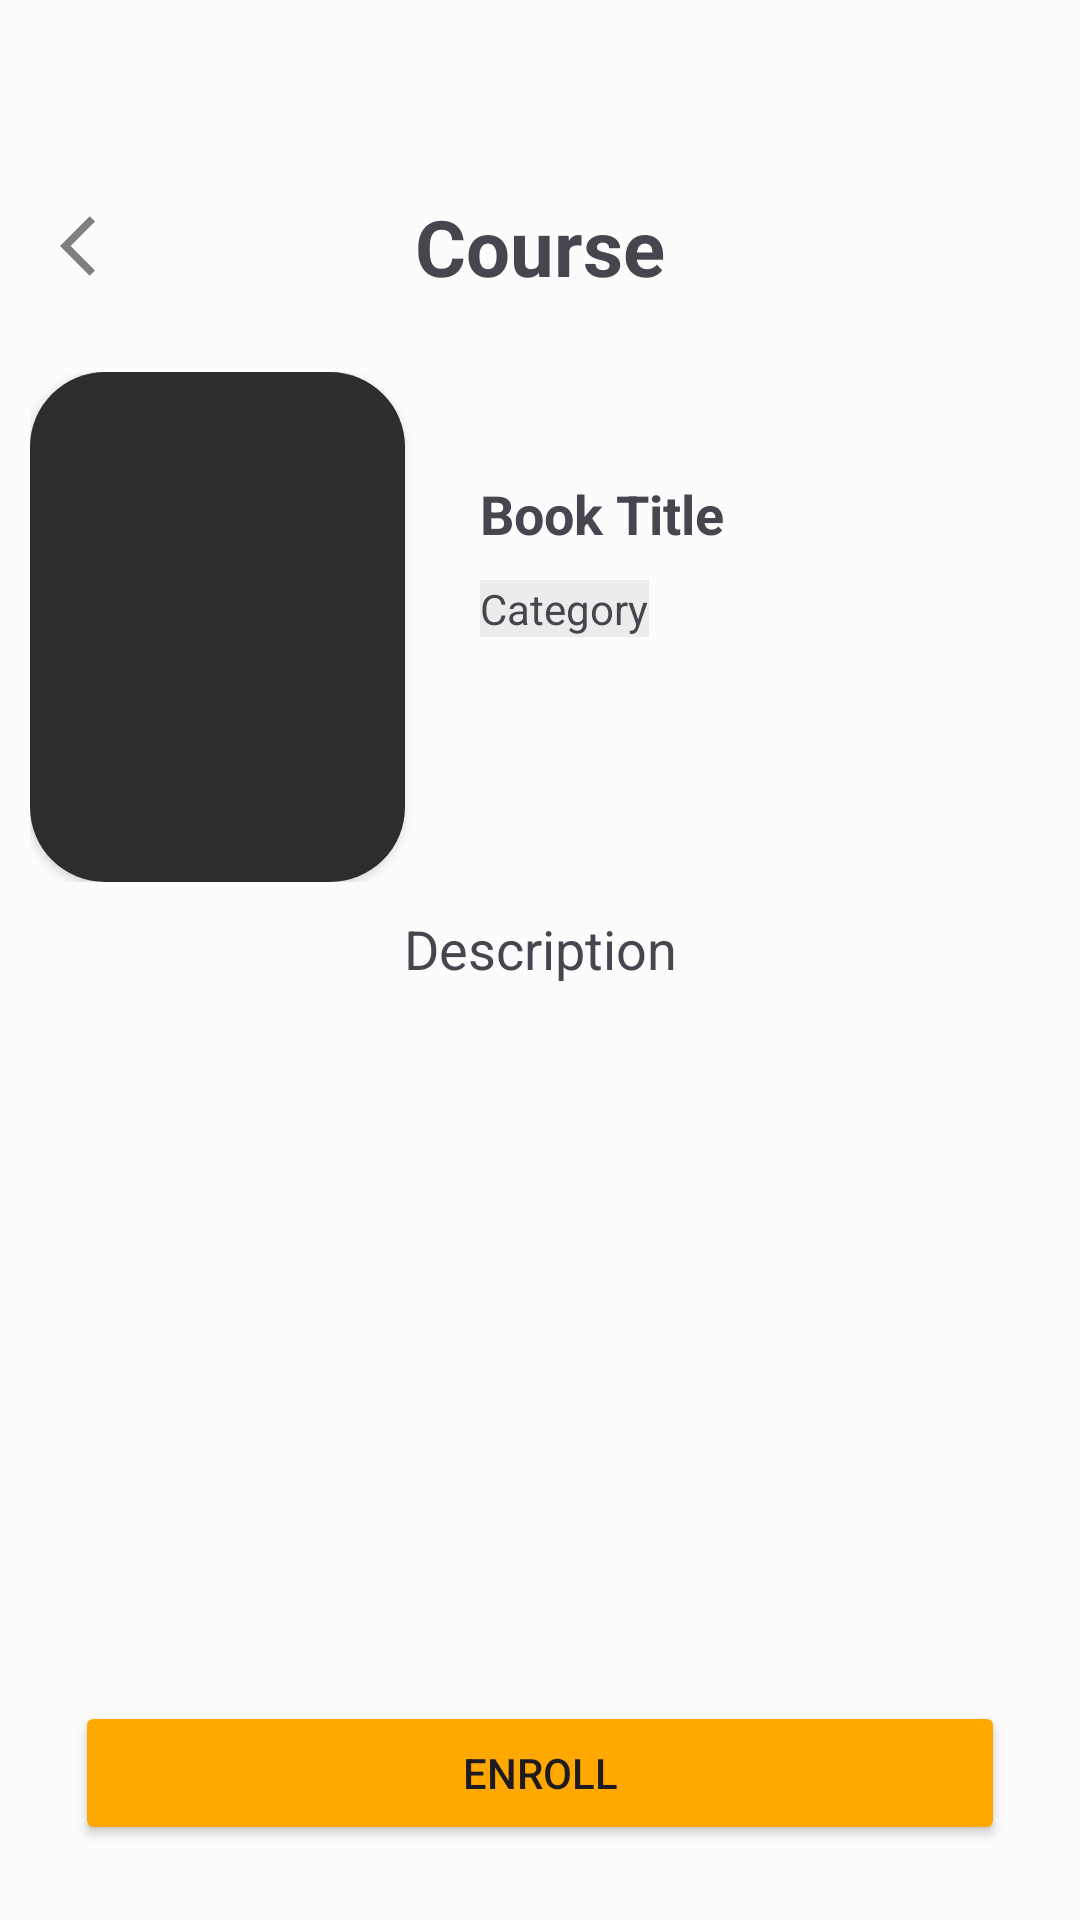

Where icons sit on this 1080px×1920px app screen, as (x1, y1, x2, y2):
arrow back: (60, 216, 95, 276)
